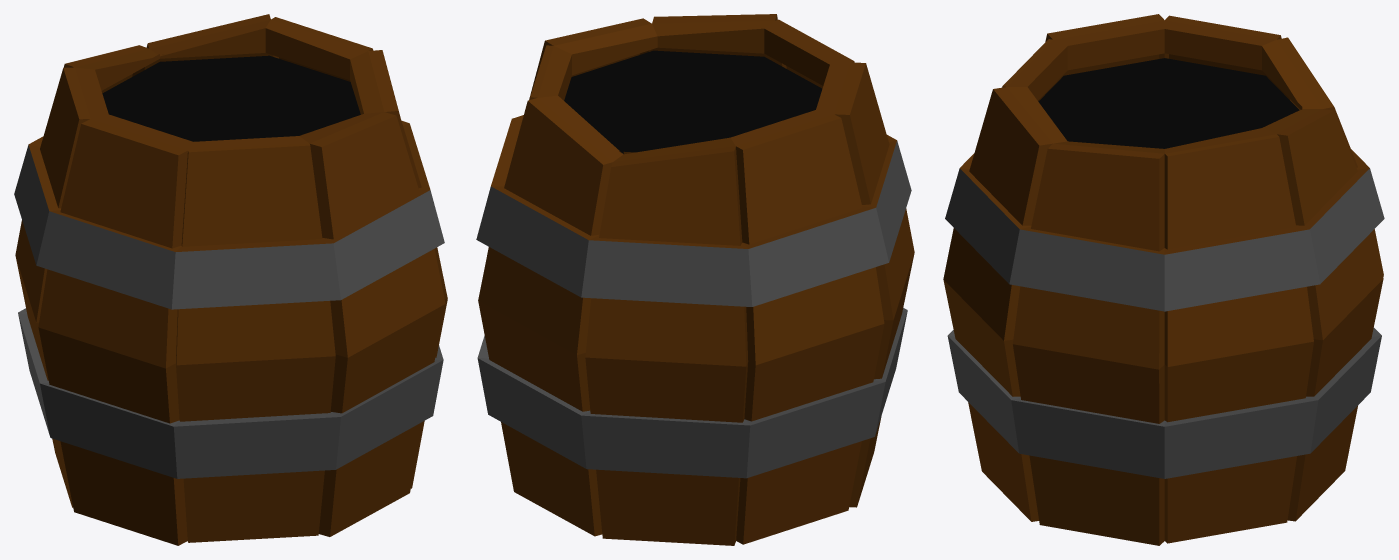
File: barrel2.fbx
3 views of the same model, side by side, from view 1: azimuth 30°, elevation 25°; view 2: azimuth 150°, elevation 25°; view 3: azimuth 270°, elevation 25° (orthographic). The views are drawn at different scales.
Parts seen in each view (by area): view 1: Circle.001, Circle; view 2: Circle.001, Circle; view 3: Circle.001, Circle.
Part boxes in pixels (left/top/right/bottom): Circle.001: left=14, top=14, right=447, bottom=545; Circle: left=102, top=55, right=360, bottom=141; Circle.001: left=476, top=14, right=914, bottom=545; Circle: left=564, top=50, right=822, bottom=153; Circle.001: left=943, top=14, right=1384, bottom=545; Circle: left=1038, top=58, right=1299, bottom=148.
Size of the model in its own units: 322 by 306 by 321.
